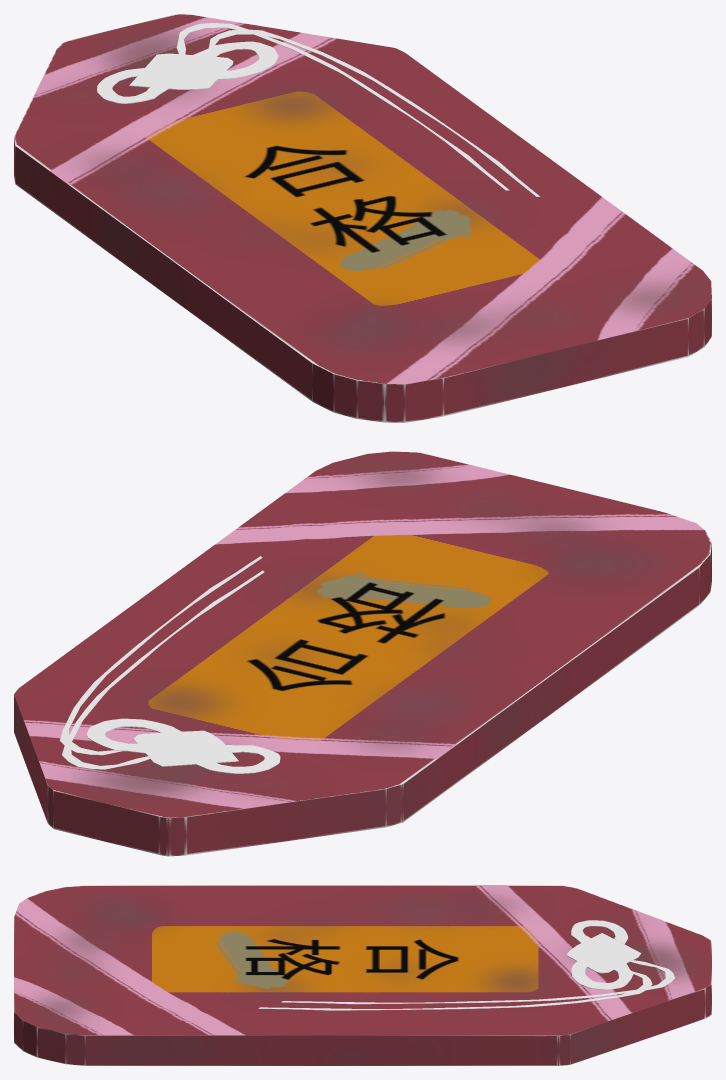
3 renders of one model, top to bottom at view 1: azimuth 30°, elevation 25°; view 2: azimuth 150°, elevation 25°; view 3: azimuth 270°, elevation 25°, orthographic. The views are drawn at different scales.
Visible parts, largest first — view 1: Line001, Line002, Line005, Line006, Line003, Line004; view 2: Line001, Line002, Line005, Line006, Line003, Line004; view 3: Line001, Line002, Line005, Line006, Line003, Line004.
Boxes of the visible parts, x1=… form: Line001: x1=14, y1=14, x2=711, y2=422; Line002: x1=129, y1=53, x2=233, y2=89; Line005: x1=176, y1=23, x2=509, y2=190; Line006: x1=208, y1=29, x2=540, y2=196; Line003: x1=192, y1=41, x2=278, y2=79; Line004: x1=97, y1=68, x2=170, y2=103; Line001: x1=14, y1=451, x2=711, y2=856; Line002: x1=133, y1=730, x2=238, y2=766; Line005: x1=62, y1=570, x2=264, y2=769; Line006: x1=59, y1=556, x2=262, y2=755; Line003: x1=86, y1=718, x2=182, y2=753; Line004: x1=195, y1=744, x2=280, y2=773; Line001: x1=14, y1=885, x2=711, y2=1065; Line002: x1=566, y1=933, x2=641, y2=973; Line005: x1=281, y1=960, x2=674, y2=1004; Line006: x1=258, y1=969, x2=652, y2=1010; Line003: x1=571, y1=958, x2=633, y2=990; Line004: x1=571, y1=920, x2=628, y2=944.
Bounding box in the file's own units: 2.28 × 0.2612 × 4.48.
2 materials, 1 textured.
